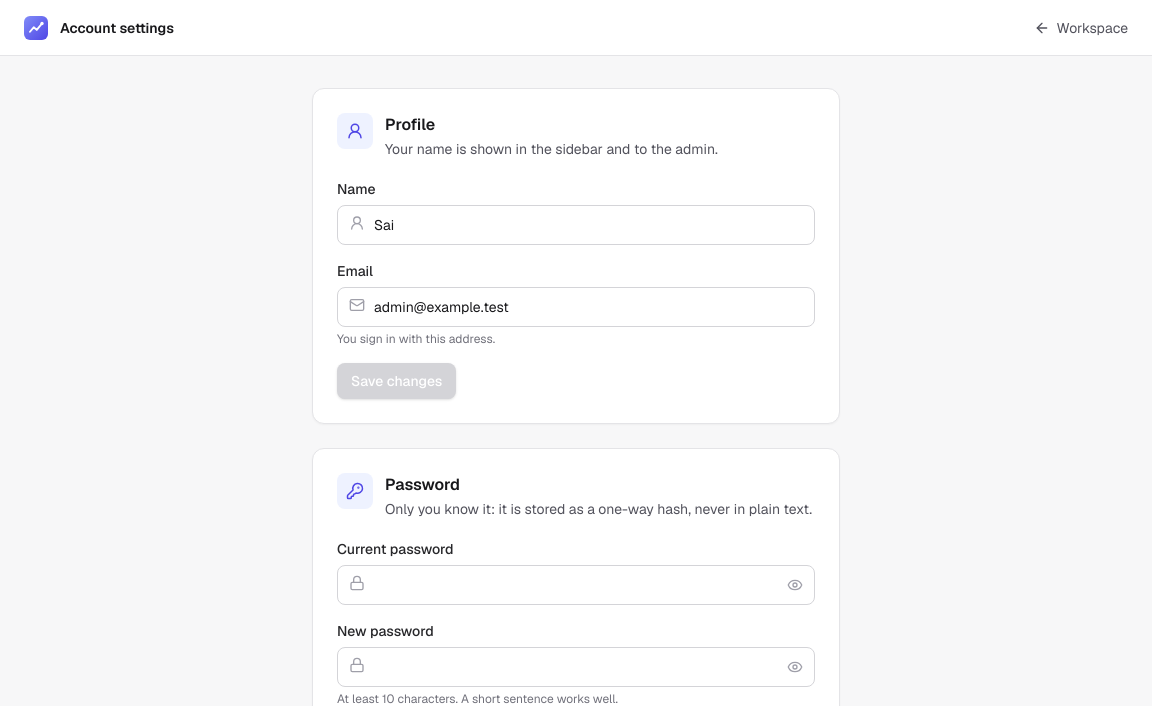
Test: Account settings › changes the name without a password
The width and height of the screenshot is (1152, 706).
Expected: the button "Save changes" is disabled, [337,363,456,399]
Replace the text in the field labelled "Name" with "Sai Charan" at point(576, 225), box [337,205,815,245]
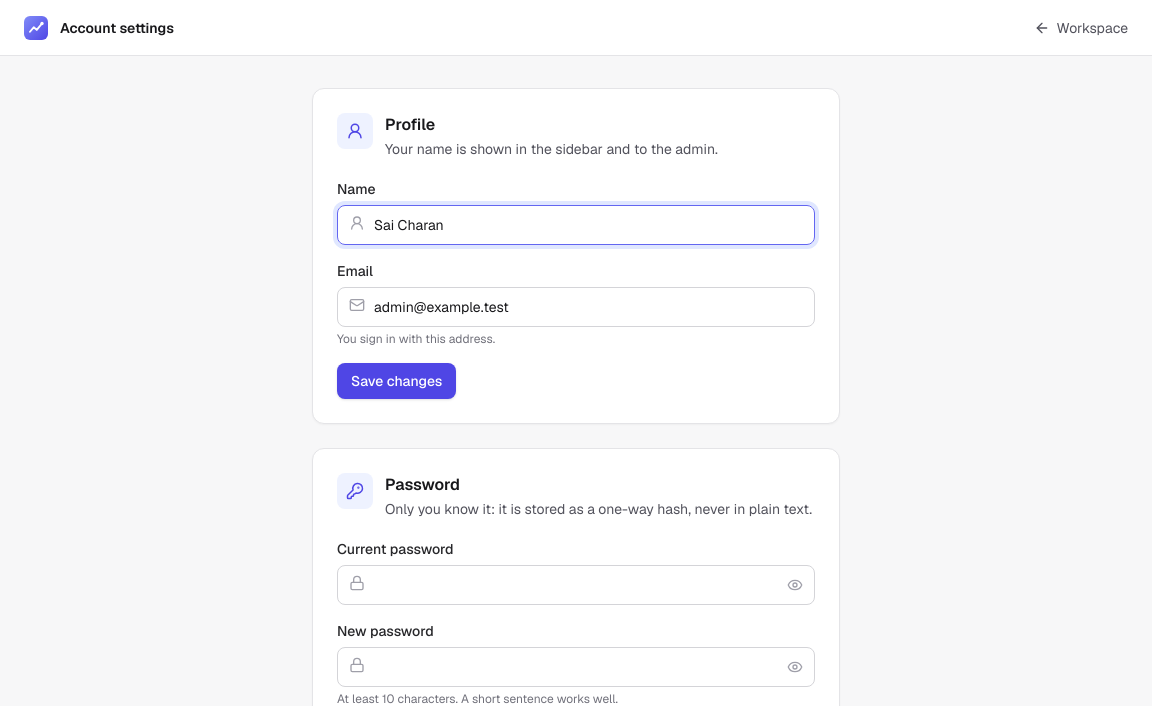
Click the button "Save changes" at point(397, 381), box [337,363,456,399]
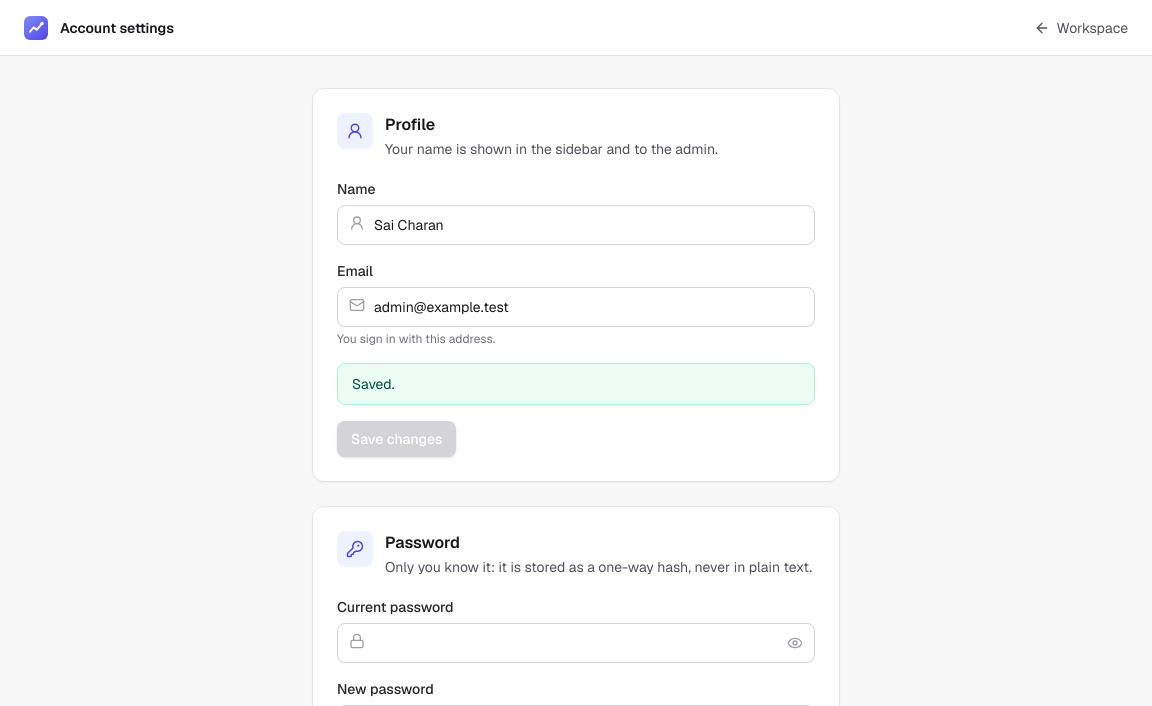
Now the text "Saved." is shown, box [352,374,394,394]
